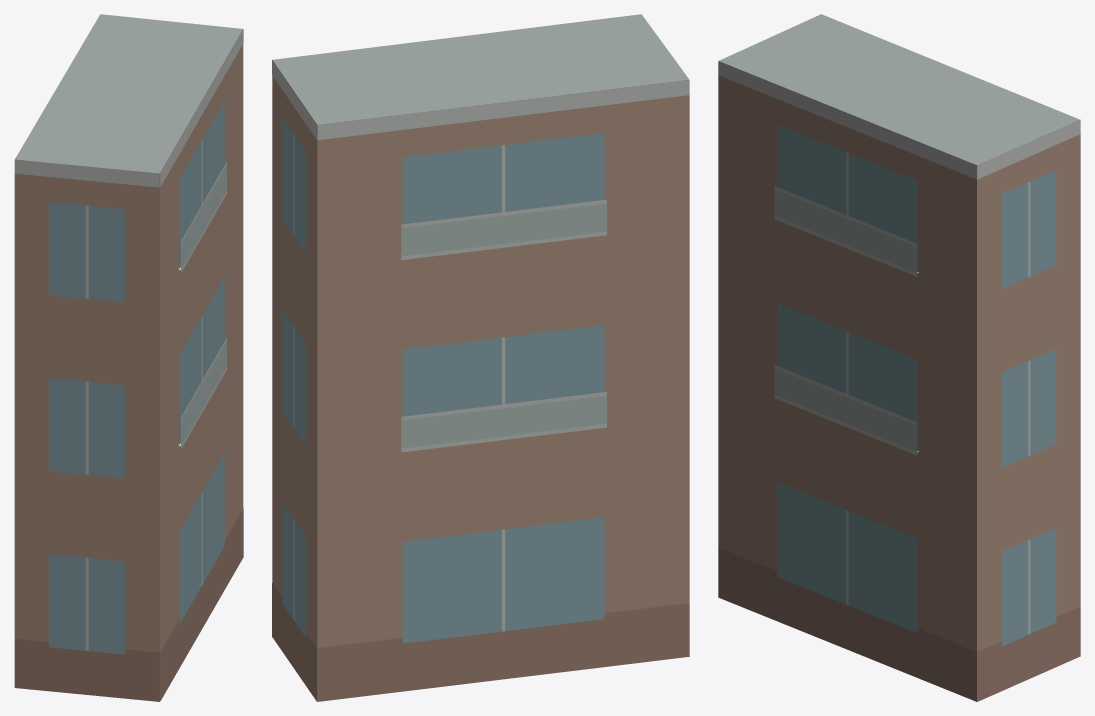
File: survey-upis-33010529.glb
3 views of the same model, side by side, from view 1: azimuth 30°, elevation 25°; view 2: azimuth 150°, elevation 25°; view 3: azimuth 270°, elevation 25° (orthographic). The views are drawn at different scales.
Parts seen in each view (by area): view 1: survey-upis-33010529.tmp; view 2: survey-upis-33010529.tmp; view 3: survey-upis-33010529.tmp.
Boxes of the visible parts, left/top/right/bottom form: survey-upis-33010529.tmp: left=14, top=14, right=243, bottom=701; survey-upis-33010529.tmp: left=272, top=14, right=689, bottom=701; survey-upis-33010529.tmp: left=718, top=14, right=1080, bottom=701.
Bounding box in the file's own units: 5.54 × 9.15 × 5.61.
